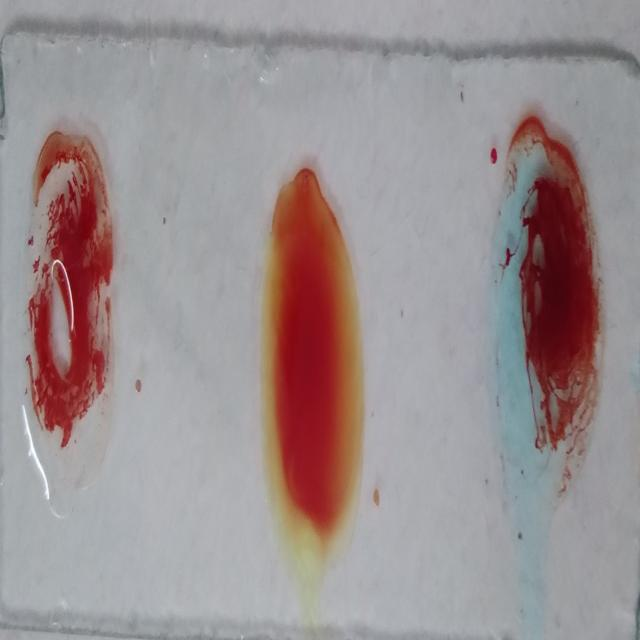A: (486, 120, 600, 541)
D: (22, 129, 119, 474)
